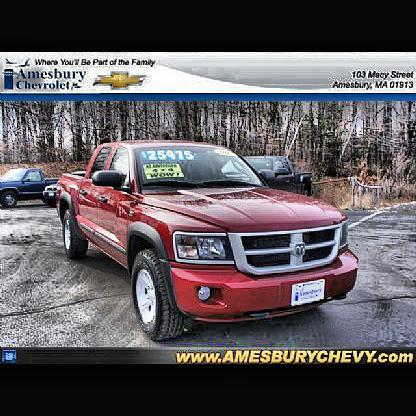Dodge Dakota Crew Cab 2010: (58, 141, 362, 346)
